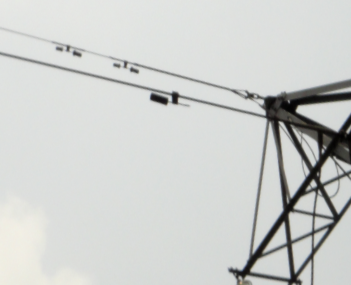damper: (54, 43, 85, 58), (111, 58, 140, 74)
damper_defect: (148, 88, 192, 109)
